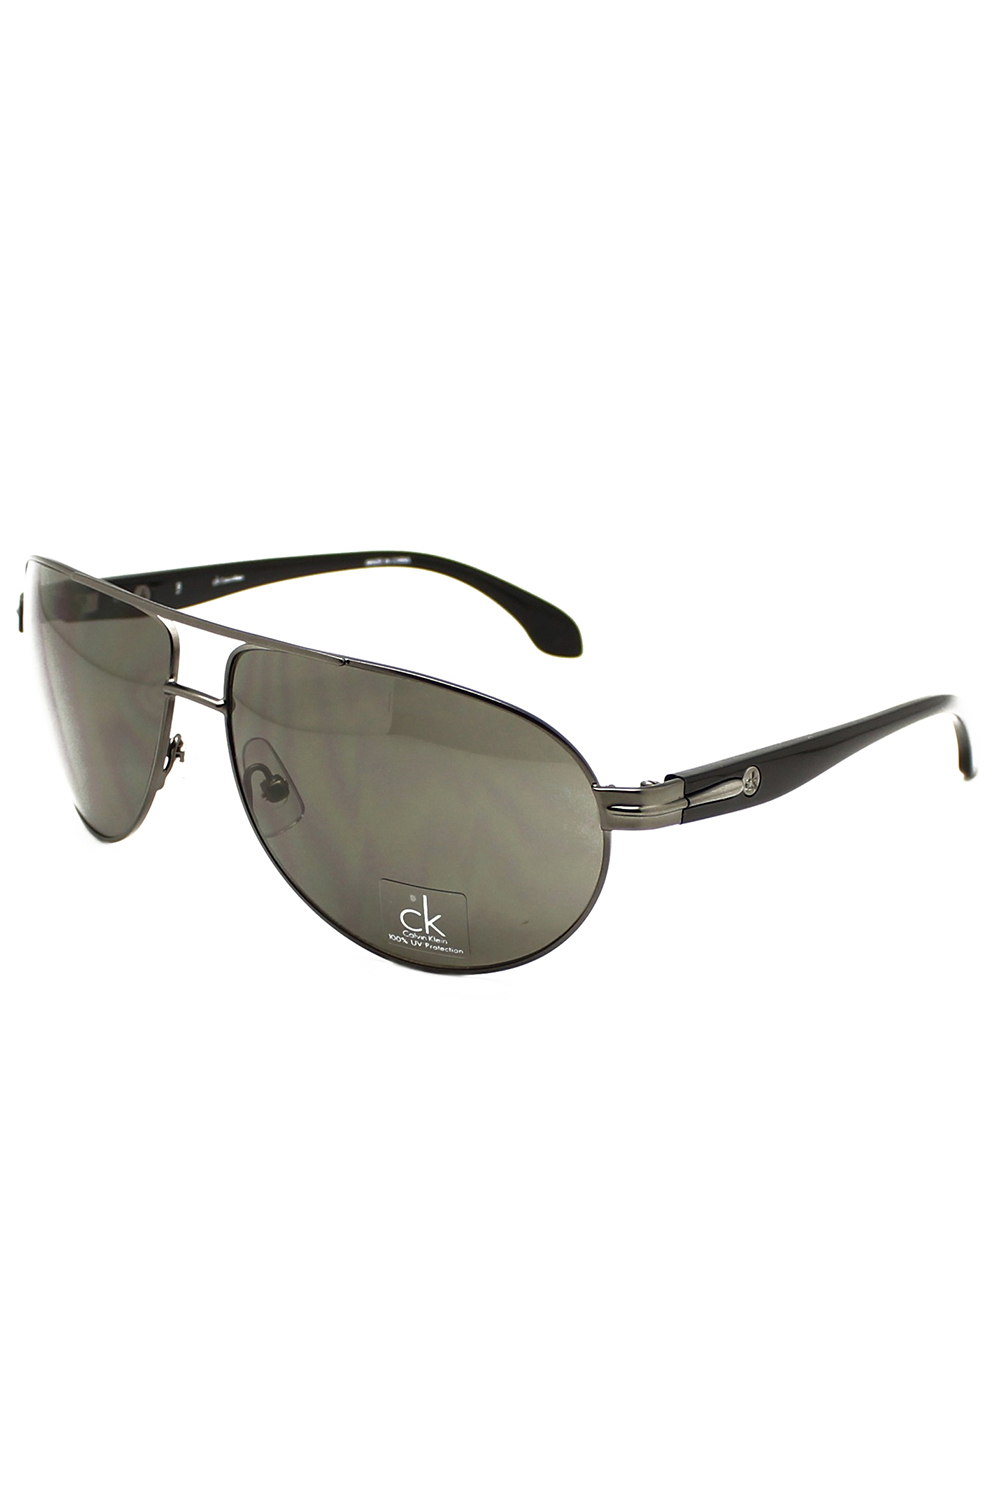Calvin Klein: (381, 891, 467, 950)
